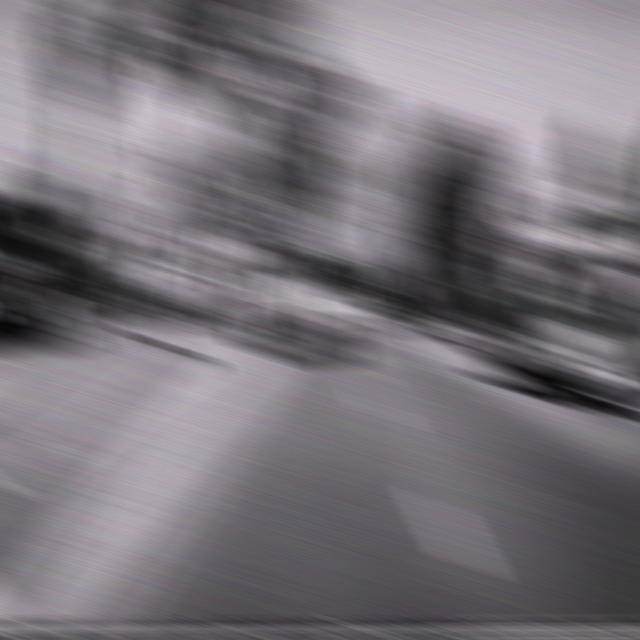speedLimit35: (558, 185, 603, 244)
